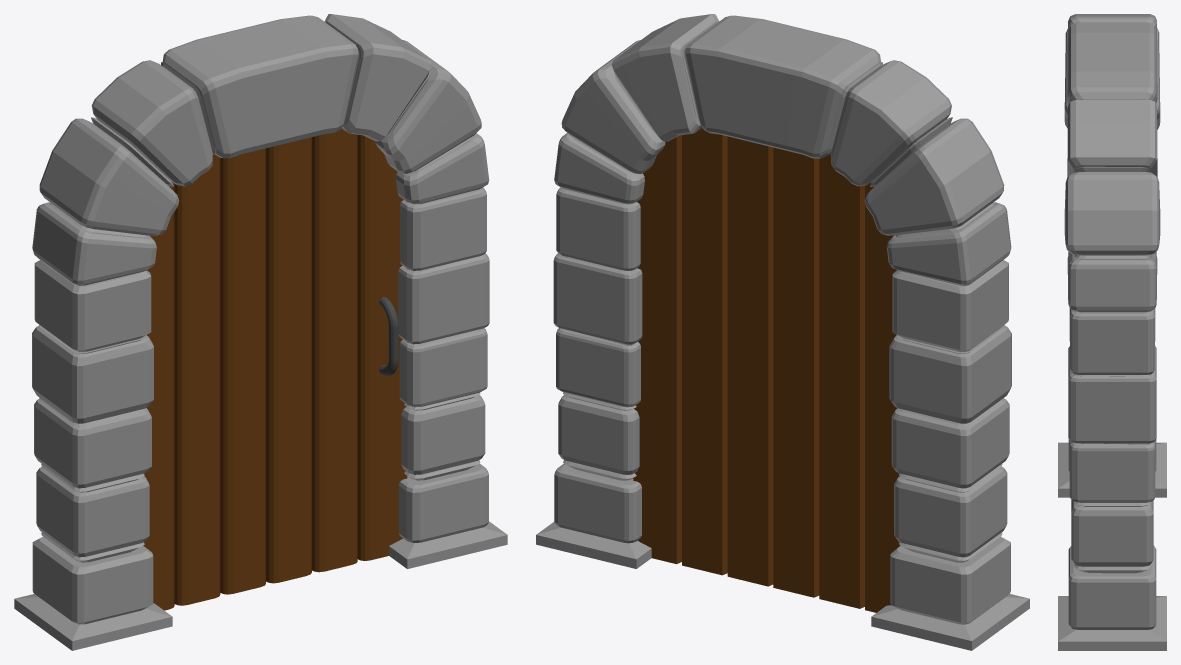
File: kapi_rv2.fbx
3 views of the same model, side by side, from view 1: azimuth 30°, elevation 25°; view 2: azimuth 150°, elevation 25°; view 3: azimuth 270°, elevation 25° (orthographic). The views are drawn at different scales.
Visible parts, largest first — view 1: Torus.001, Torus.002; view 2: Torus.001, Torus.002; view 3: Torus.001.
Part boxes in pixels (left/top/right/bottom): Torus.001: left=14, top=14, right=507, bottom=650; Torus.002: left=143, top=128, right=407, bottom=610; Torus.001: left=536, top=14, right=1029, bottom=650; Torus.002: left=633, top=127, right=899, bottom=612; Torus.001: left=1058, top=14, right=1166, bottom=650.
Size of the model in its own units: 3.7 by 4.33 by 0.8538.
